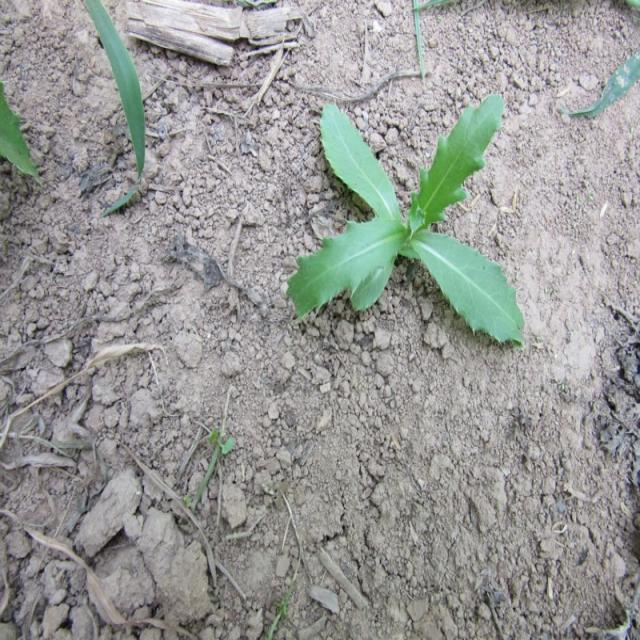field_thistle: (290, 83, 520, 366)
